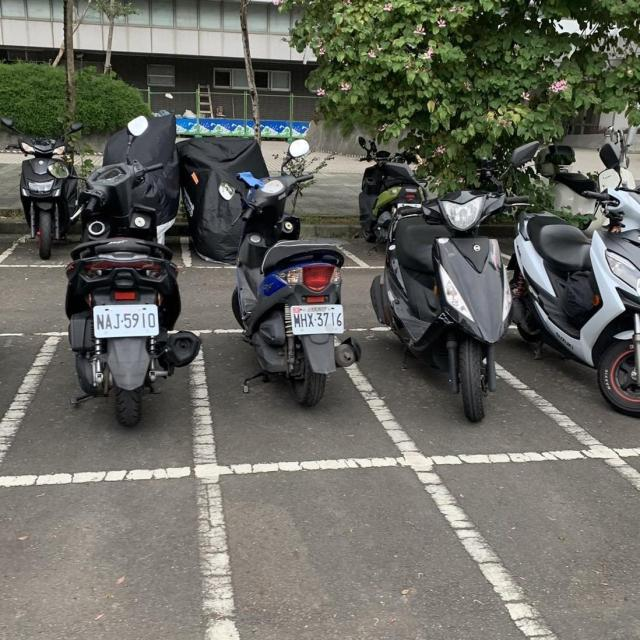W: (91, 302, 161, 339), (288, 303, 350, 336)
